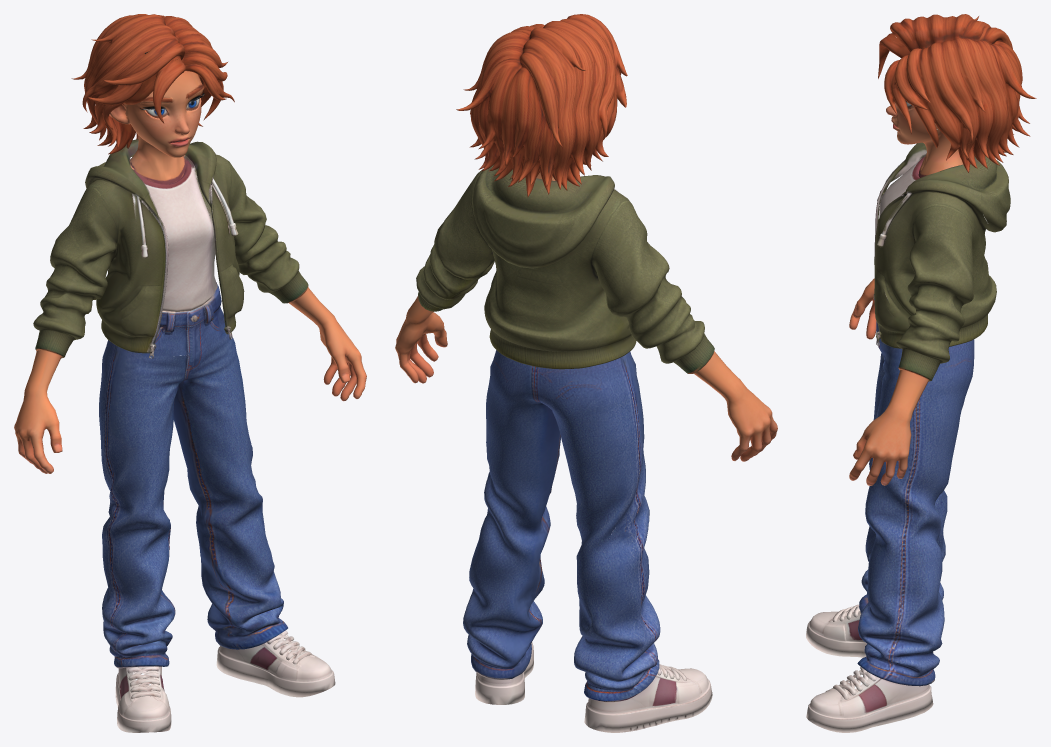
File: chica.glb
3 renders of one model, left to right at view 1: azimuth 30°, elevation 25°; view 2: azimuth 150°, elevation 25°; view 3: azimuth 270°, elevation 25°, orthographic. The views are drawn at different scales.
Visible parts, largest first — view 1: tripo_4e26a3e2_9fdf_402c_a010_5172fc9ea450; view 2: tripo_4e26a3e2_9fdf_402c_a010_5172fc9ea450; view 3: tripo_4e26a3e2_9fdf_402c_a010_5172fc9ea450.
Boxes of the visible parts, bbox=[...] form: tripo_4e26a3e2_9fdf_402c_a010_5172fc9ea450: bbox=[14, 14, 366, 732]; tripo_4e26a3e2_9fdf_402c_a010_5172fc9ea450: bbox=[395, 14, 777, 732]; tripo_4e26a3e2_9fdf_402c_a010_5172fc9ea450: bbox=[806, 14, 1036, 732].
Bounding box in the file's own units: 0.5444 × 0.9995 × 0.3188.
Materials: 1 (1 with a texture image).
